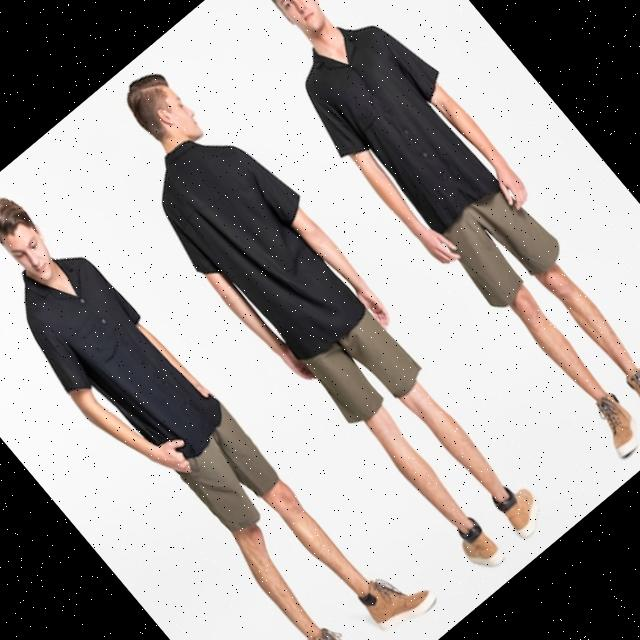Person: (76, 43, 563, 589), (0, 143, 446, 640), (216, 0, 640, 472)
